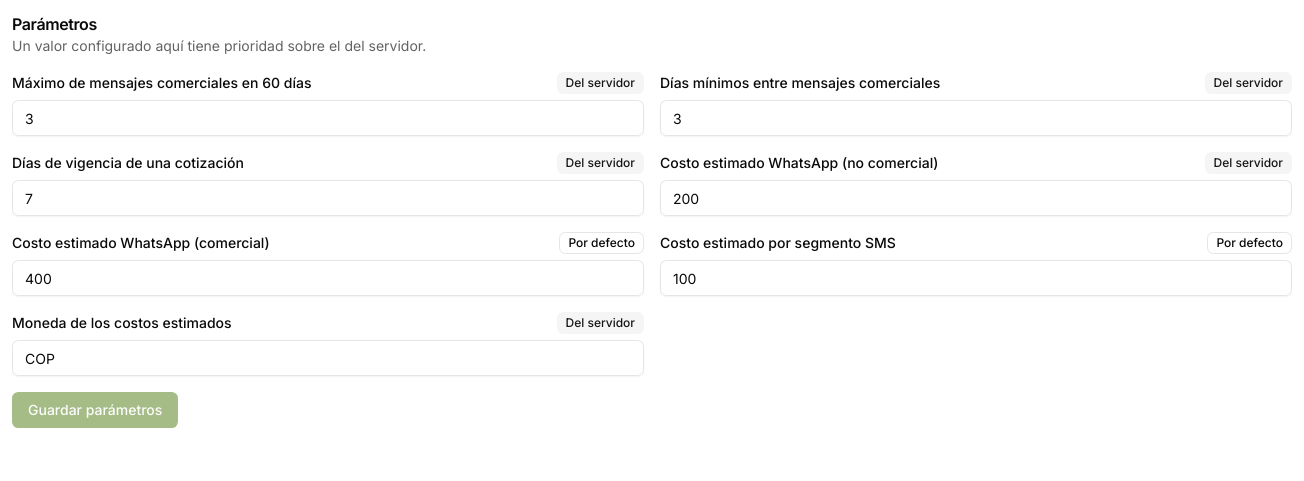
Test: ParametrosSection › tras guardar, el origen pasa a Configurado
Replace the text in the field labelled "Días de vigencia de una cotización" with "21" at (328, 198), box [12, 180, 644, 216]
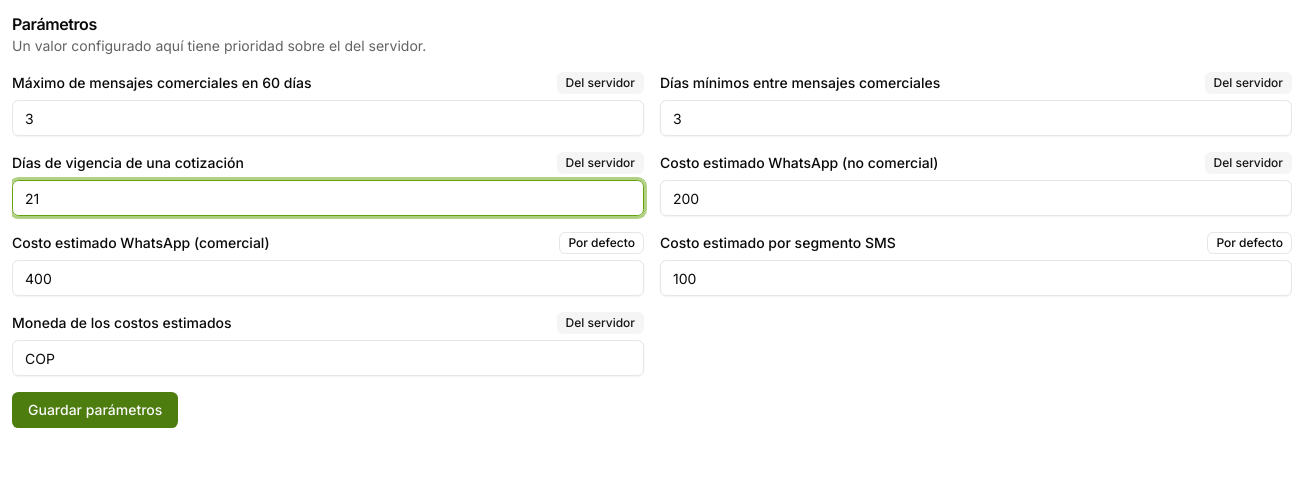
Click the button "Guardar parámetros" at (95, 410), box [12, 392, 178, 428]
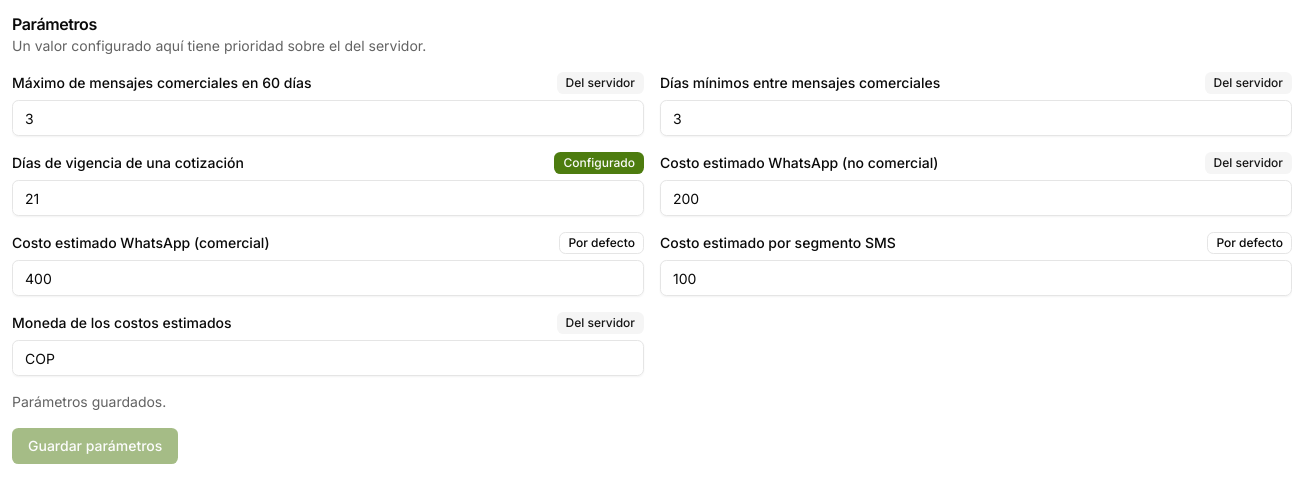
Check: the text "Parámetros guardados." is shown, box [12, 393, 166, 410]
